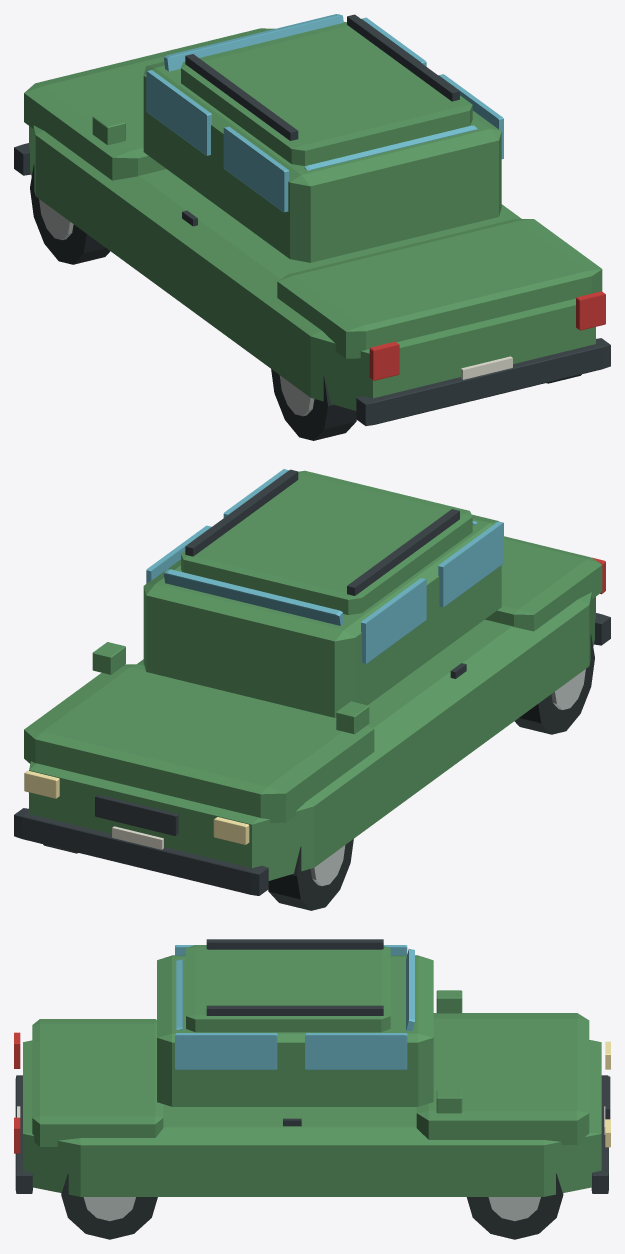
Rendered from small_suv.glb.
3 renders of one model, top to bottom at view 1: azimuth 30°, elevation 25°; view 2: azimuth 150°, elevation 25°; view 3: azimuth 270°, elevation 25°, orthographic. The views are drawn at different scales.
Visible parts, largest first — view 1: SmallSUV body shell, SmallSUV cabin, SmallSUV rear deck, SmallSUV roof, SmallSUV hood, SmallSUV rear bumper, SmallSUV rear side window.001, SmallSUV front side window.001, SmallSUV rear tire 1, SmallSUV front windshield, SmallSUV front tire 1, SmallSUV roof rail 1 (+9 smaller); view 2: SmallSUV body shell, SmallSUV hood, SmallSUV cabin, SmallSUV roof, SmallSUV rear deck, SmallSUV front bumper, SmallSUV rear side window.001, SmallSUV front side window.001, SmallSUV front windshield, SmallSUV front tire 1, SmallSUV rear tire 1, SmallSUV grille (+10 smaller); view 3: SmallSUV body shell, SmallSUV hood, SmallSUV cabin, SmallSUV roof, SmallSUV rear deck, SmallSUV front side window, SmallSUV rear side window, SmallSUV rear tire -1, SmallSUV front tire -1, SmallSUV roof rail 1, SmallSUV roof rail -1, SmallSUV front hub -1 (+7 smaller).
Part boxes in pixels (x1=…): SmallSUV body shell: x1=29, y1=125, x2=595, y2=410; SmallSUV cabin: x1=143, y1=22, x2=501, y2=262; SmallSUV rear deck: x1=277, y1=219, x2=602, y2=358; SmallSUV roof: x1=181, y1=22, x2=472, y2=165; SmallSUV hood: x1=24, y1=28, x2=274, y2=180; SmallSUV rear bumper: x1=356, y1=338, x2=610, y2=425; SmallSUV rear side window.001: x1=223, y1=126, x2=289, y2=212; SmallSUV front side window.001: x1=146, y1=70, x2=211, y2=155; SmallSUV rear tire 1: x1=271, y1=369, x2=356, y2=440; SmallSUV front windshield: x1=164, y1=14, x2=343, y2=71; SmallSUV front tire 1: x1=30, y1=164, x2=110, y2=264; SmallSUV roof rail 1: x1=185, y1=54, x2=298, y2=140; SmallSUV body shell: x1=29, y1=592, x2=595, y2=880; SmallSUV hood: x1=24, y1=664, x2=374, y2=822; SmallSUV cabin: x1=143, y1=514, x2=501, y2=717; SmallSUV roof: x1=181, y1=470, x2=472, y2=614; SmallSUV rear deck: x1=485, y1=536, x2=602, y2=631; SmallSUV front bumper: x1=14, y1=808, x2=268, y2=895; SmallSUV rear side window.001: x1=438, y1=521, x2=503, y2=607; SmallSUV front side window.001: x1=361, y1=578, x2=426, y2=663; SmallSUV front windshield: x1=163, y1=569, x2=344, y2=625; SmallSUV front tire 1: x1=268, y1=839, x2=353, y2=910; SmallSUV rear tire 1: x1=514, y1=634, x2=594, y2=734; SmallSUV grille: x1=95, y1=795, x2=178, y2=835; SmallSUV body shell: x1=23, y1=1040, x2=601, y2=1196; SmallSUV hood: x1=416, y1=1013, x2=589, y2=1144; SmallSUV cabin: x1=157, y1=955, x2=433, y2=1106; SmallSUV roof: x1=186, y1=945, x2=390, y2=1032; SmallSUV rear deck: x1=32, y1=1019, x2=163, y2=1146; SmallSUV front side window: x1=305, y1=1033, x2=407, y2=1069; SmallSUV rear side window: x1=175, y1=1033, x2=277, y2=1069; SmallSUV rear tire -1: x1=61, y1=1173, x2=157, y2=1239; SmallSUV front tire -1: x1=466, y1=1173, x2=563, y2=1239; SmallSUV roof rail 1: x1=206, y1=939, x2=383, y2=949; SmallSUV roof rail -1: x1=206, y1=1005, x2=383, y2=1015; SmallSUV front hub -1: x1=488, y1=1197, x2=540, y2=1221.
Size of the model in its own units: 1.9 by 1.63 by 4.19.
